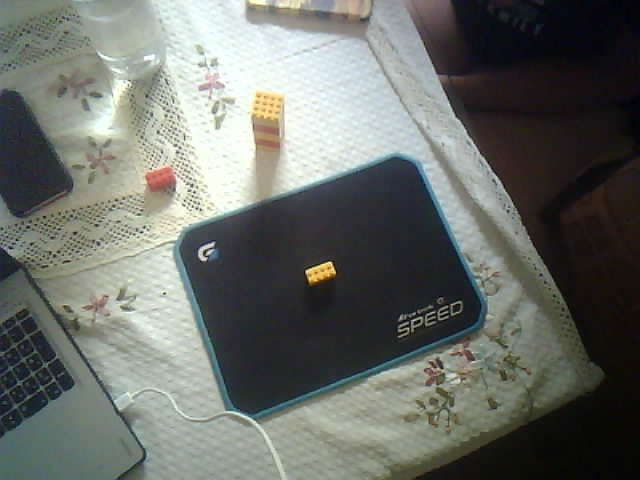lego: (250, 90, 285, 153), (304, 259, 336, 289), (145, 165, 176, 191)
